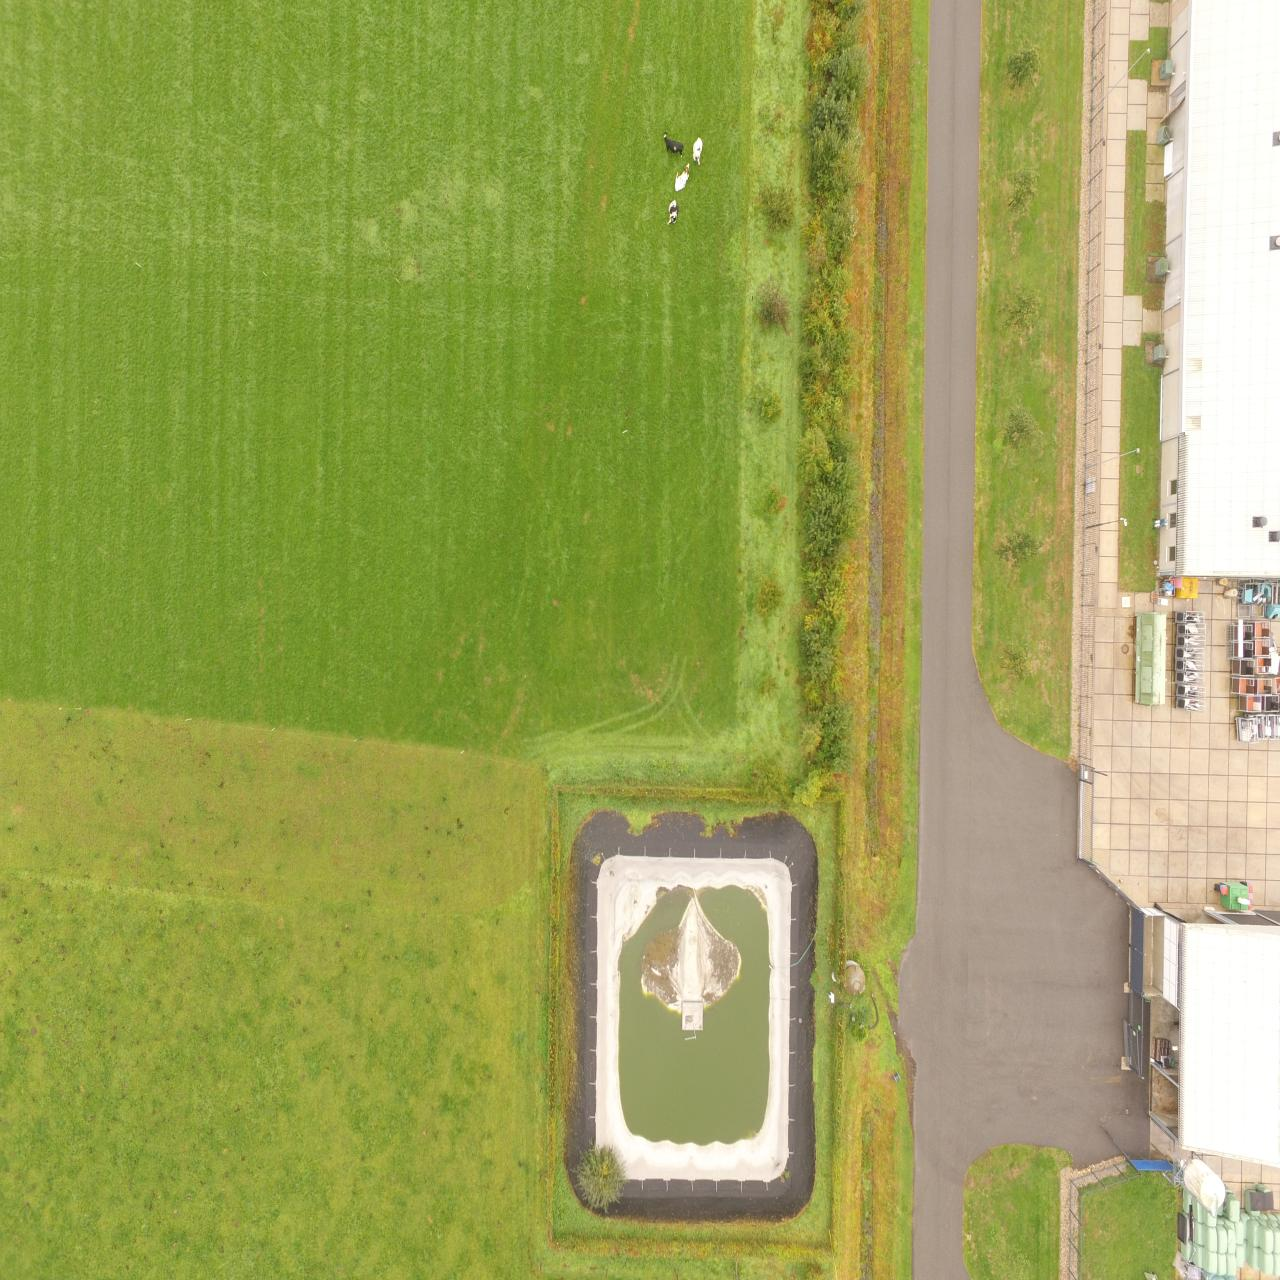cow: (662, 131, 685, 158), (675, 163, 689, 190), (666, 198, 679, 225), (693, 136, 702, 164)
